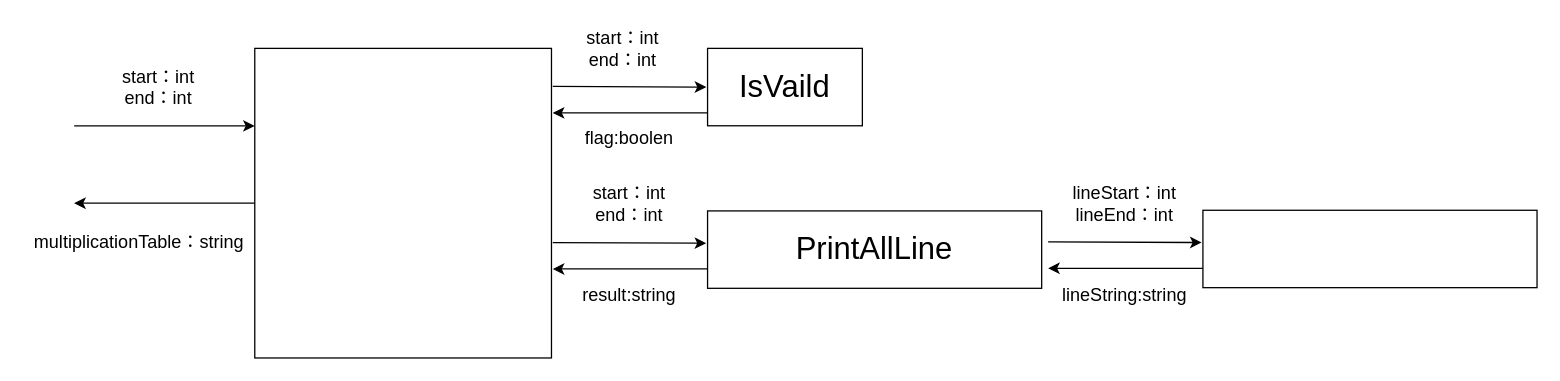
The diagram is 1560 pixels wide and 381 high, and some of its shapes have lost their labels. Here are the shapes that lost their labels. From the top down, the centre of each, then its label:
the point at 402,202: GetMutiplicationTable
the point at 1369,248: PrintLine
